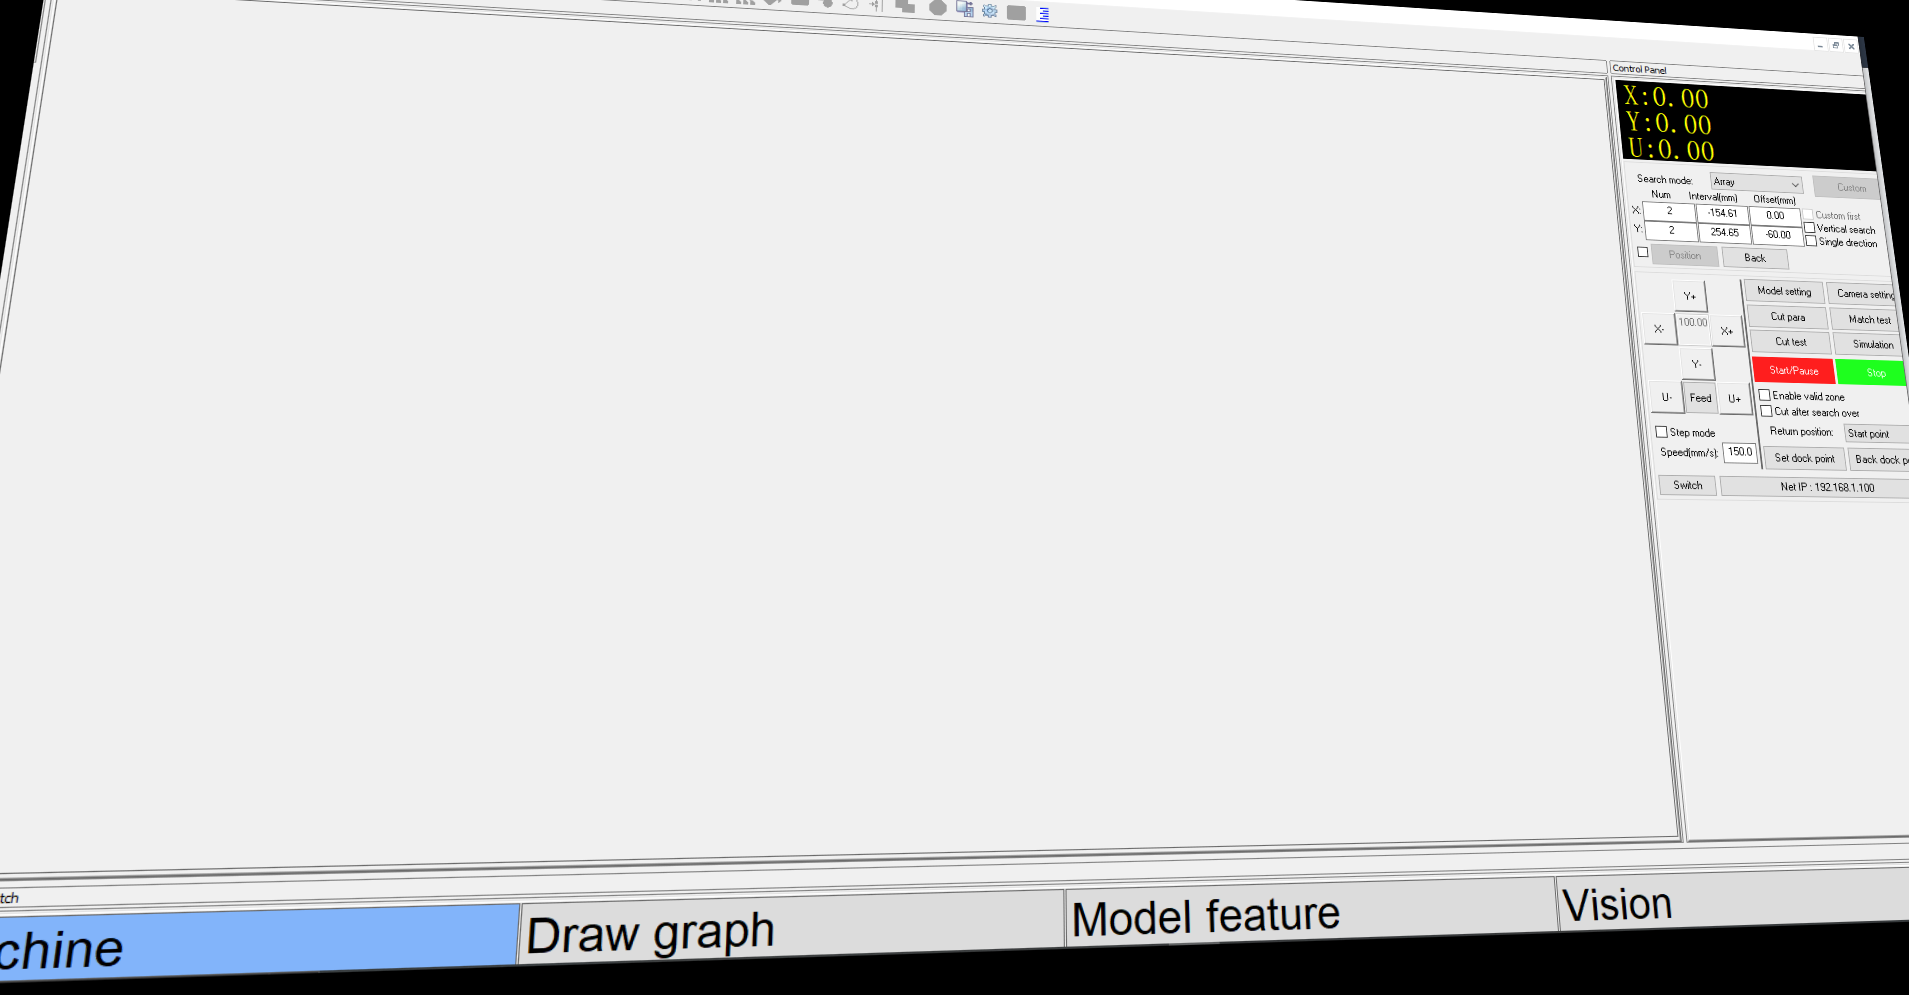start: (1750, 355, 1836, 384)
timer: (1747, 189, 1804, 246)
